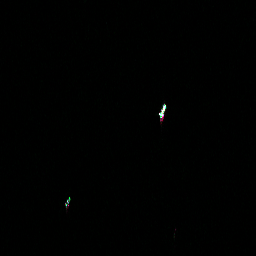ship: (156, 102, 168, 120), (61, 194, 73, 208)
